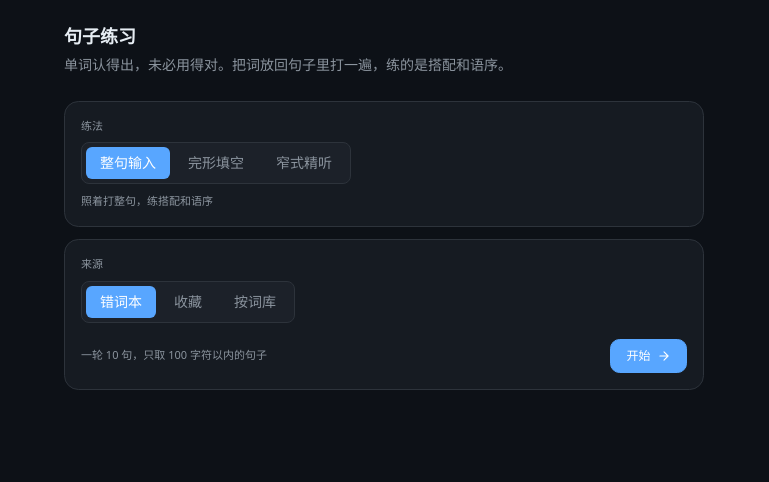
it: SentencesPage · 完形模式 › 题面里出现挖空占位符而不是完整句子
Click the button "按词库": click(255, 302) 220,286 -> 290,318
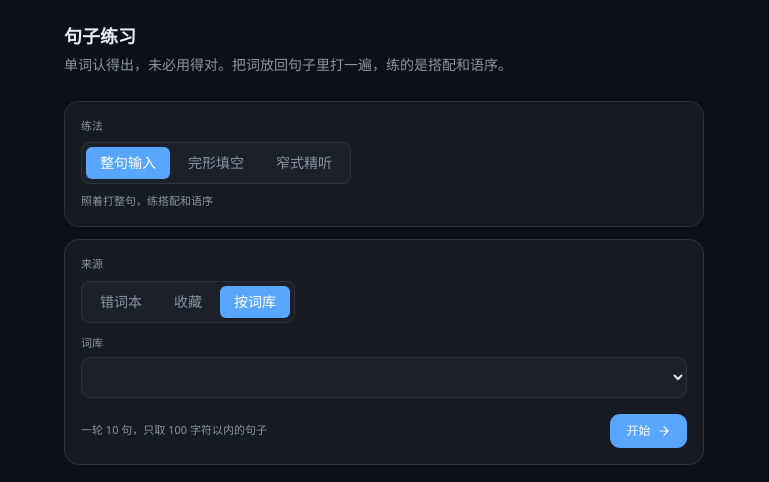
Click the button "完形填空": click(216, 163) 174,147 -> 258,179
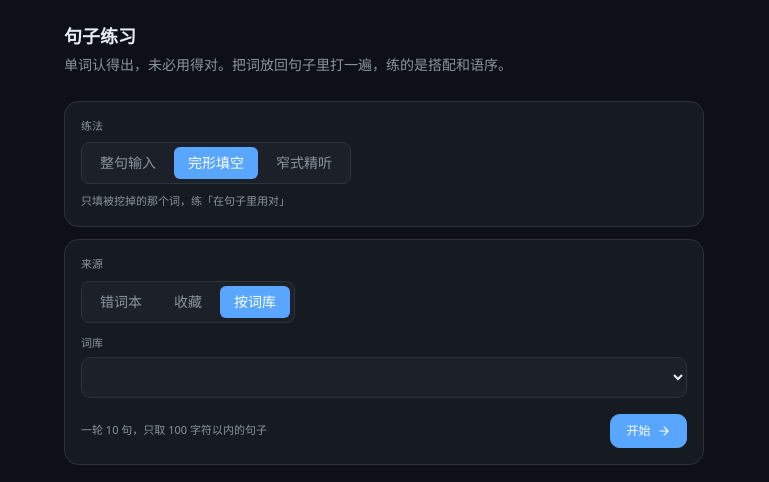
Click the button "开始": click(649, 431) 610,414 -> 687,448
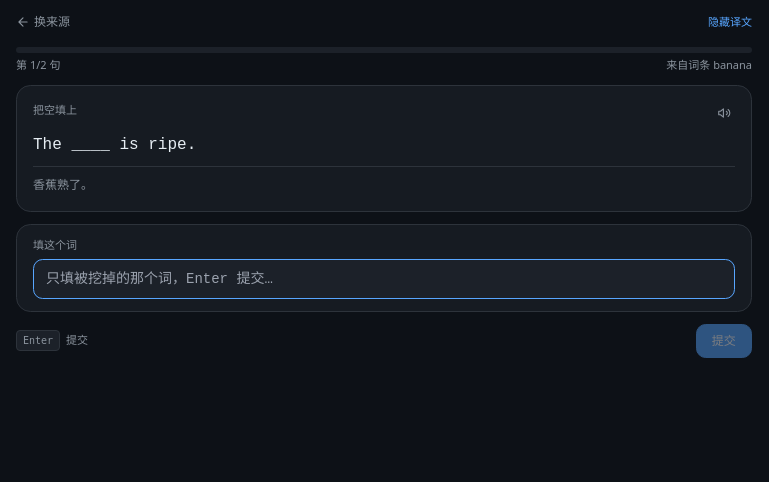
Now the text "第 1/2 句" is shown, box 16,56 -> 60,73
Now the text with class "tf-mono" shows "____", box 33,136 -> 196,154
